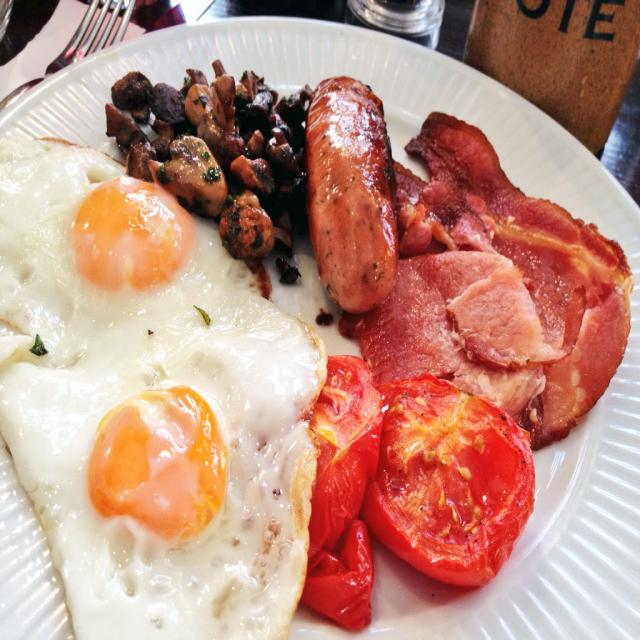Egg: (0, 133, 331, 639)
